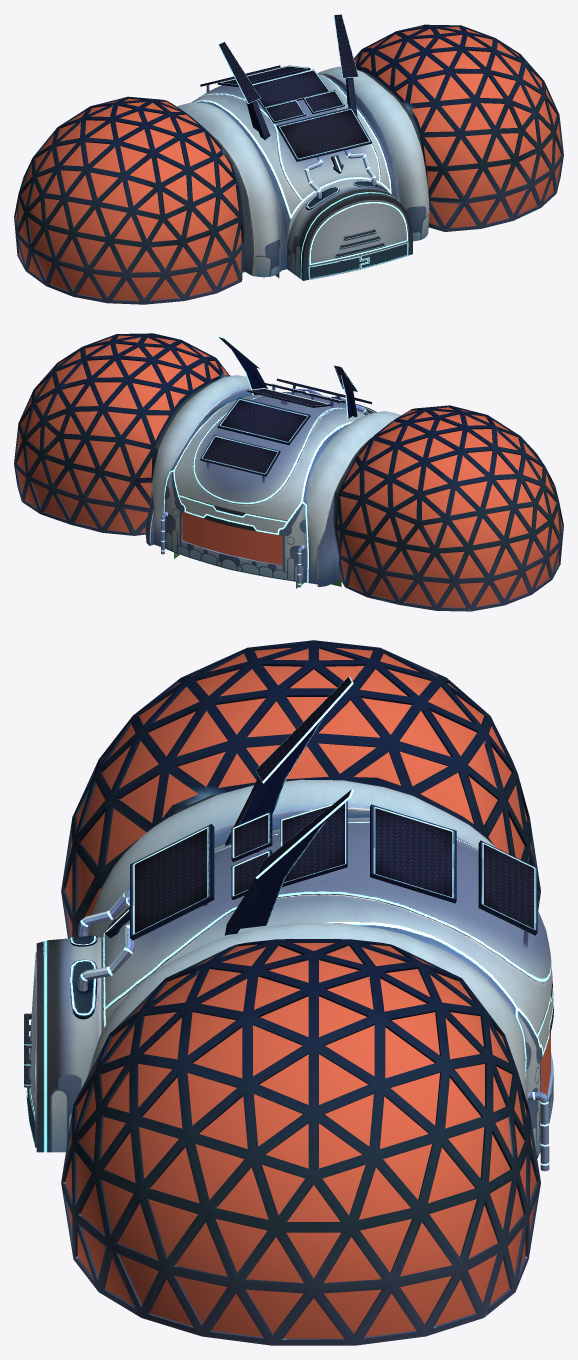
File: Laboratorio_High.fbx
The picture shows the model from 3 angles, top to bottom: view 1: azimuth 30°, elevation 25°; view 2: azimuth 150°, elevation 25°; view 3: azimuth 270°, elevation 25°; orthographic projection. The views are drawn at different scales.
Parts seen in each view (by area): view 1: Estructura, Vidrios, Puerta_Central, Panel1, Panel4, Antenas_Izq, Antenas_Der, Puerta_Izq, Puerta_Der, Panel5, Panel2, Panel3; view 2: Estructura, Vidrios, Panel5, Panel6, Antenas_Der, Panel4, Antenas_Izq; view 3: Estructura, Vidrios, Panel1, Panel5, Panel6, Antenas_Der, Antenas_Izq, Panel4, Panel2, Puerta_Central, Panel3.
Part boxes in pixels (box(x1,y1,x2,y2)): Estructura: box(14, 24, 563, 304); Vidrios: box(15, 26, 561, 300); Puerta_Central: box(308, 200, 408, 266); Panel1: box(276, 107, 372, 161); Panel4: box(252, 69, 329, 108); Antenas_Izq: box(218, 41, 270, 139); Antenas_Der: box(333, 14, 358, 115); Puerta_Izq: box(308, 255, 368, 279); Puerta_Der: box(360, 242, 408, 269); Panel5: box(217, 65, 310, 86); Panel2: box(264, 99, 305, 123); Panel3: box(303, 90, 344, 113); Estructura: box(14, 333, 563, 611); Vidrios: box(16, 335, 562, 607); Panel5: box(217, 397, 310, 444); Panel6: box(200, 435, 280, 476); Antenas_Der: box(218, 336, 267, 395); Panel4: box(247, 388, 330, 407); Antenas_Izq: box(333, 364, 358, 418); Estructura: box(36, 640, 553, 1345); Vidrios: box(65, 647, 550, 1338); Panel1: box(130, 824, 214, 940); Panel5: box(370, 804, 456, 903); Panel6: box(478, 840, 537, 935); Antenas_Der: box(224, 789, 353, 935); Antenas_Izq: box(225, 676, 353, 845); Panel4: box(280, 801, 347, 886); Panel2: box(231, 811, 272, 861); Puerta_Central: box(24, 952, 36, 1120); Panel3: box(231, 850, 272, 899).
Size of the model in its own units: 3687 by 1298 by 1635.
